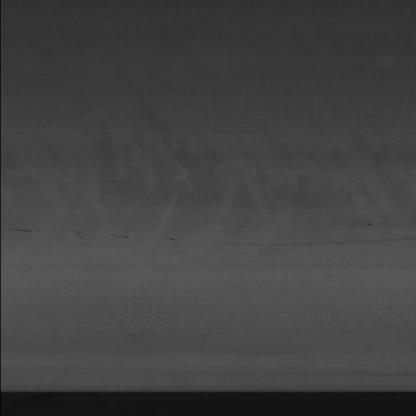inclusion: (9, 223, 399, 249)
